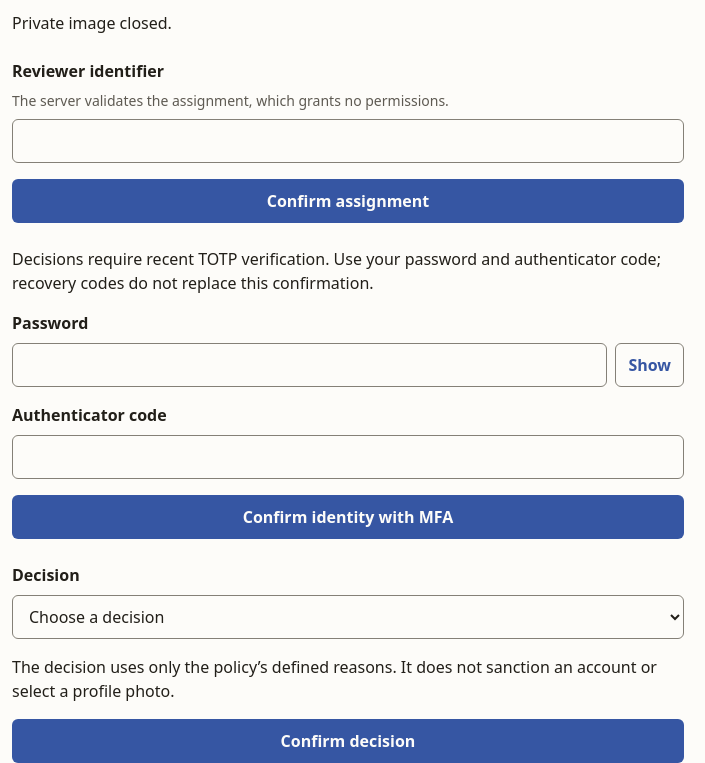
Test: private photo review UI › preserves the opaque ETag and reuses the same decision key only after explicit retry
(page scrolled)
Select "Approve: meets the policy" in the dropdown labelled "Decision" at x=348, y=617, box 12,595 -> 684,639
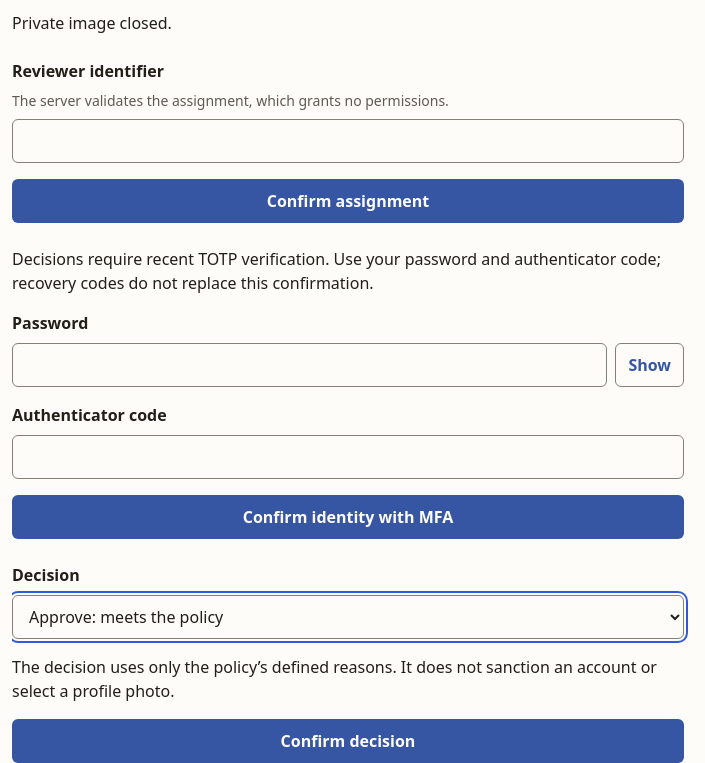
Click the button "Confirm decision".
click(348, 741)  # box 12,719 -> 684,762
(page scrolled)
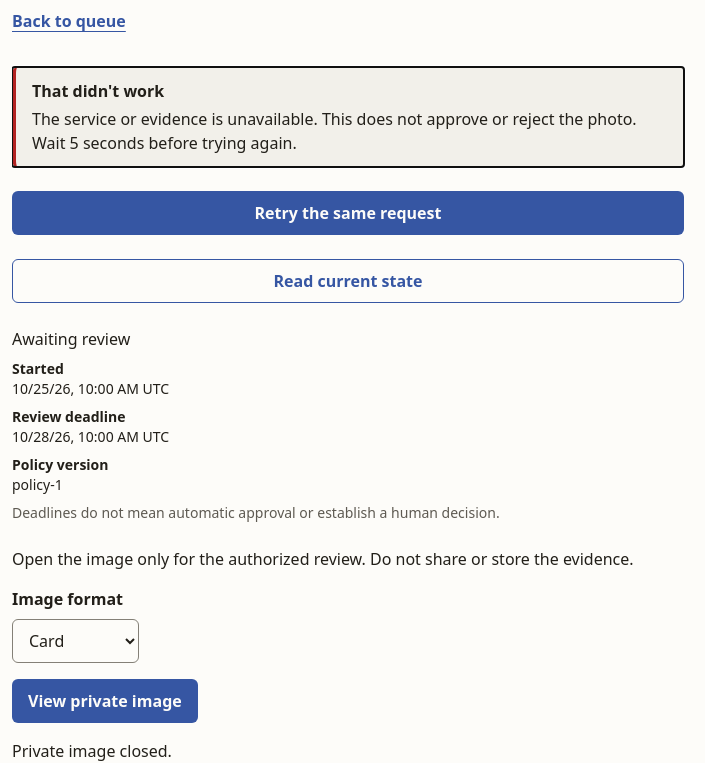
Check: the button "Retry the same request" is shown
Click the button "Retry the same request".
click(348, 213)  # box 12,191 -> 684,235
(page scrolled)
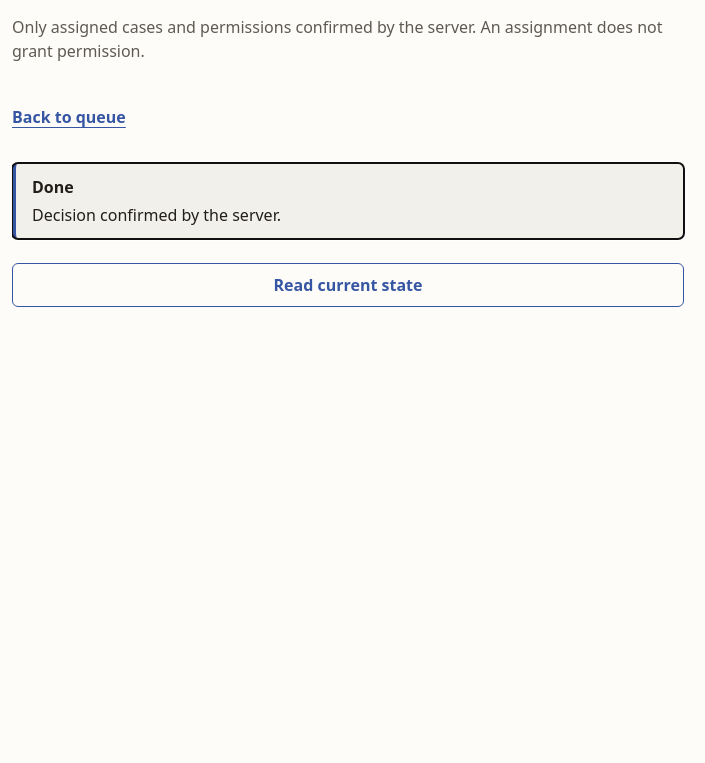
Check: the text "Decision confirmed by the server." is shown, box 32,204 -> 281,226
